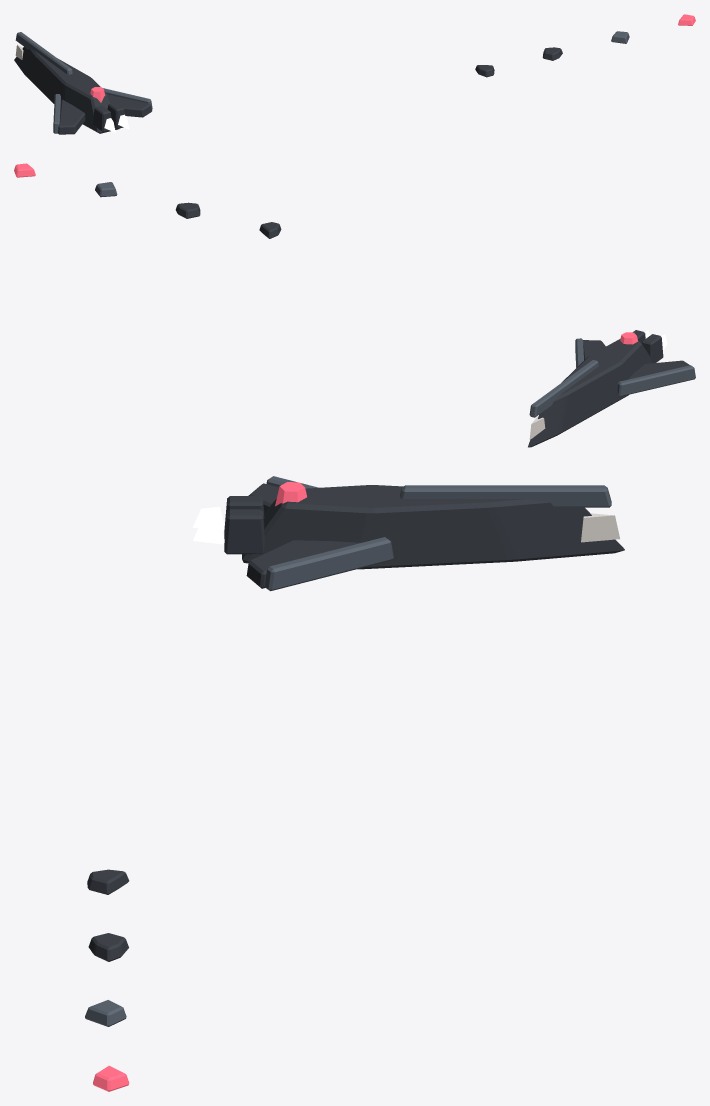
The model's file is Enemy_Scout_v4.fbx.
The picture shows the model from 3 angles, top to bottom: view 1: azimuth 30°, elevation 25°; view 2: azimuth 150°, elevation 25°; view 3: azimuth 270°, elevation 25°; orthographic projection. The views are drawn at different scales.
Visible parts, largest first — view 1: Body, Fin_L, Trim_Spine, Fin_R, Thruster_L, Thruster_R, Trim_FinR, Trim_FinL, Enemy_Scout_v4_Chunk_02; view 2: Body, Trim_FinL, Trim_Spine, Fin_L, Thruster_L; view 3: Body, Trim_Spine, Trim_FinR, Thruster_R, Fin_R, Telegraph_Muzzle.
Boxes of the visible parts, x1=… form: Body: x1=14, y1=47, x2=119, y2=133; Fin_L: x1=58, y1=99, x2=85, y2=134; Trim_Spine: x1=15, y1=32, x2=72, y2=74; Fin_R: x1=108, y1=94, x2=152, y2=117; Thruster_L: x1=93, y1=105, x2=111, y2=132; Thruster_R: x1=107, y1=102, x2=124, y2=128; Trim_FinR: x1=103, y1=88, x2=152, y2=109; Trim_FinL: x1=53, y1=94, x2=60, y2=133; Enemy_Scout_v4_Chunk_02: x1=542, y1=47, x2=562, y2=60; Body: x1=528, y1=338, x2=651, y2=447; Trim_FinL: x1=617, y1=365, x2=695, y2=396; Trim_Spine: x1=529, y1=360, x2=598, y2=417; Fin_L: x1=627, y1=360, x2=689, y2=379; Thruster_L: x1=641, y1=334, x2=663, y2=363; Body: x1=242, y1=485, x2=624, y2=569; Trim_Spine: x1=400, y1=485, x2=611, y2=507; Trim_FinR: x1=265, y1=537, x2=393, y2=591; Thruster_R: x1=224, y1=509, x2=264, y2=554; Fin_R: x1=246, y1=540, x2=361, y2=588; Telegraph_Muzzle: x1=581, y1=513, x2=619, y2=542.
Bounding box in the file's own units: 5.3 × 0.28 × 2.06.
